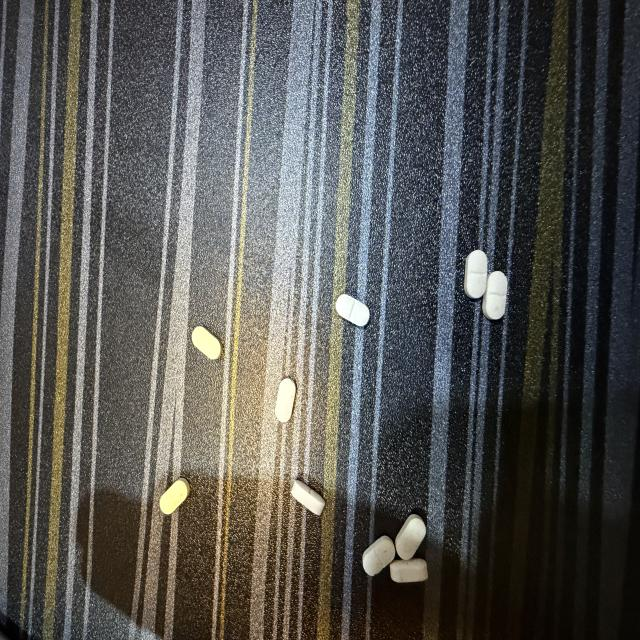pill: (396, 515, 425, 559), (363, 536, 395, 575), (291, 480, 325, 515), (482, 272, 507, 319), (464, 250, 487, 298), (336, 294, 369, 326), (160, 478, 189, 514), (192, 327, 221, 359), (275, 378, 296, 422), (390, 559, 427, 582)
